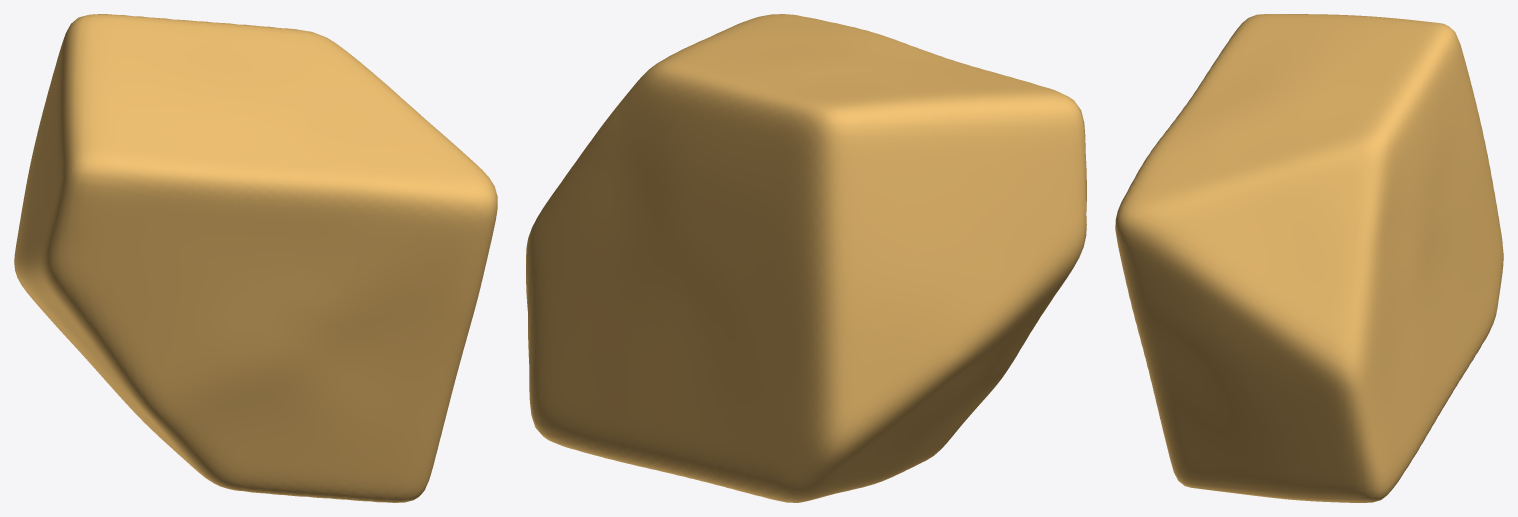
File: nugget-01.glb
The picture shows the model from 3 angles, left to right: view 1: azimuth 30°, elevation 25°; view 2: azimuth 150°, elevation 25°; view 3: azimuth 270°, elevation 25°; orthographic projection. The views are drawn at different scales.
Parts seen in each view (by area): view 1: nugget-01; view 2: nugget-01; view 3: nugget-01.
Boxes of the visible parts, x1,y1,x2,y2 form: nugget-01: (14,14,497,502); nugget-01: (526,14,1086,502); nugget-01: (1115,14,1503,502).
Bounding box in the file's own units: 3.7 × 3.3 × 3.05.
